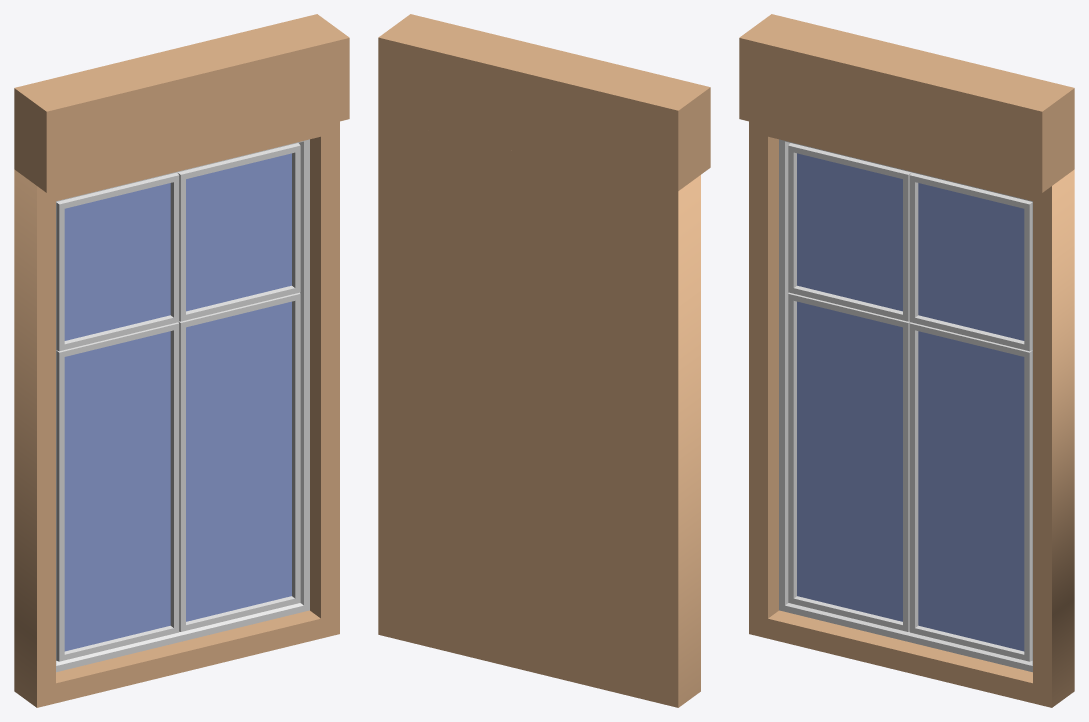
File: SP_House08_Window02.fbx
3 renders of one model, left to right at view 1: azimuth 30°, elevation 25°; view 2: azimuth 150°, elevation 25°; view 3: azimuth 330°, elevation 25°, orthographic.
Visible parts, largest first — view 1: SP_House08_Window02; view 2: SP_House08_Window02; view 3: SP_House08_Window02.
Boxes of the visible parts, x1,y1,x2,y2 form: SP_House08_Window02: (14, 14, 349, 707); SP_House08_Window02: (378, 14, 710, 707); SP_House08_Window02: (739, 14, 1074, 707).
Size of the model in its own units: 1.36 by 2.58 by 0.2519.
